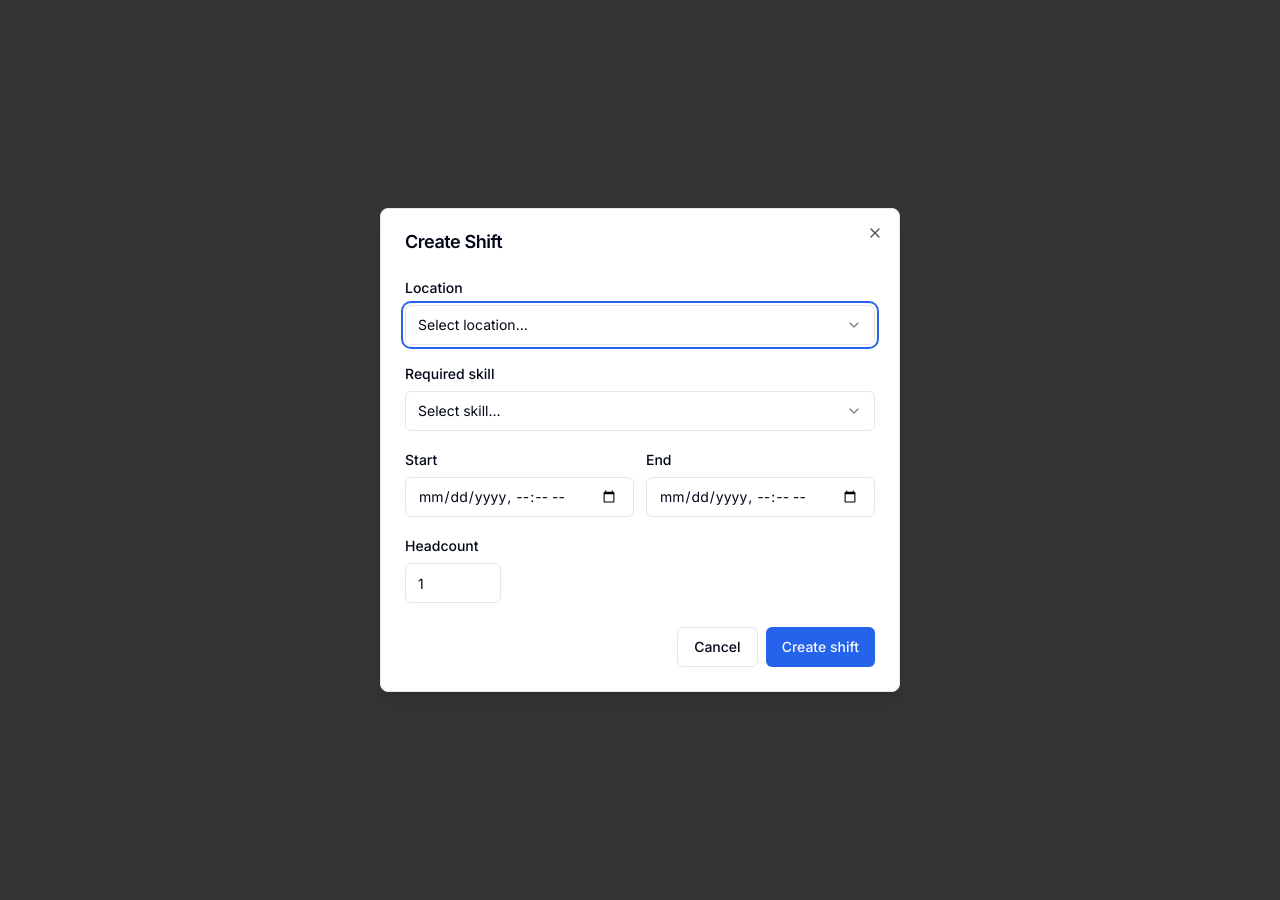
Test case: CreateShiftModal › shows validation error when form is submitted empty
Check: the heading "Create Shift" is shown, box [405, 231, 502, 252]
What coordinates should you click on to do the following:
click the button "Create shift"
I would click on:
 (820, 647)
Its box is [766, 627, 875, 667].
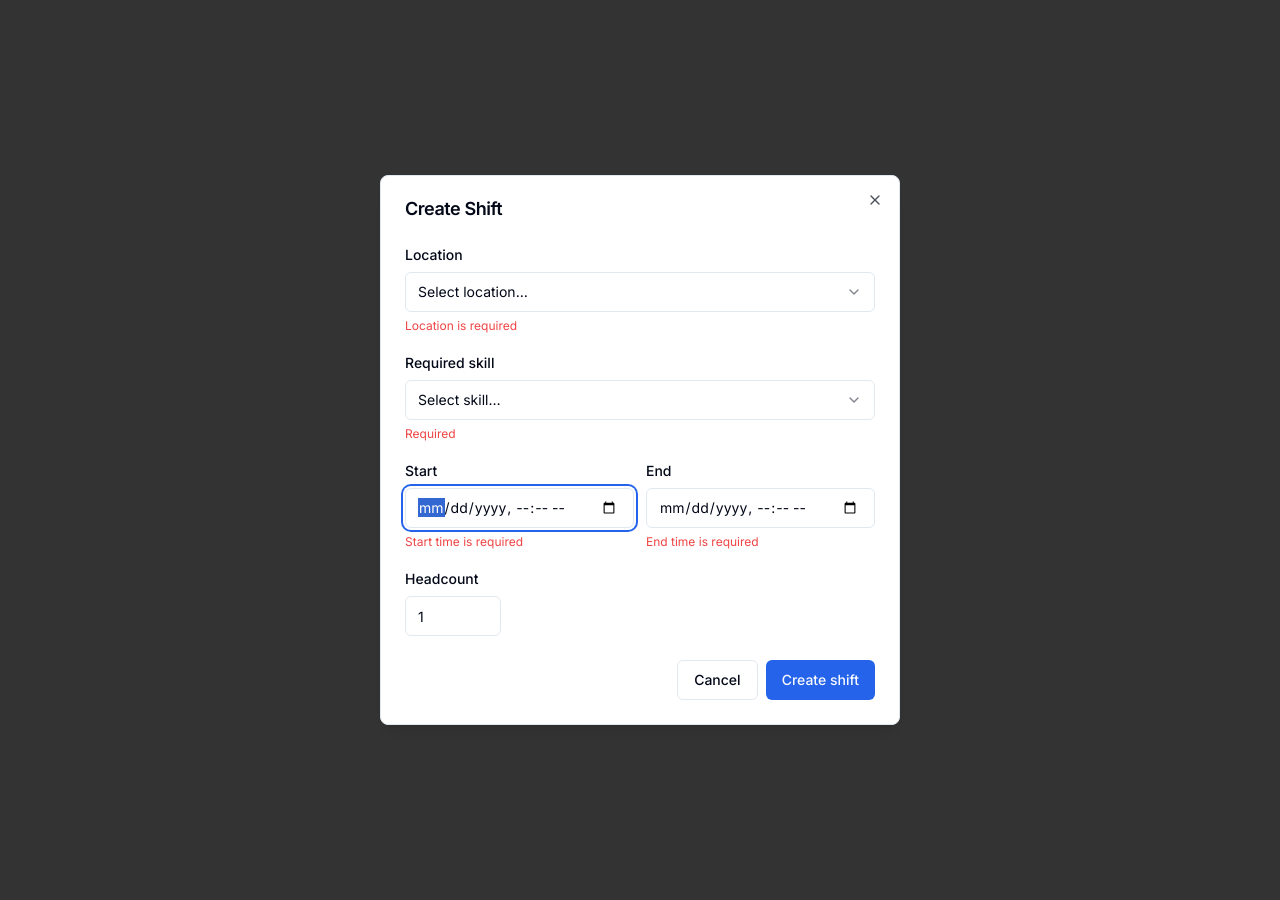
Check: the text "Location is required" is shown, box [405, 318, 517, 333]
